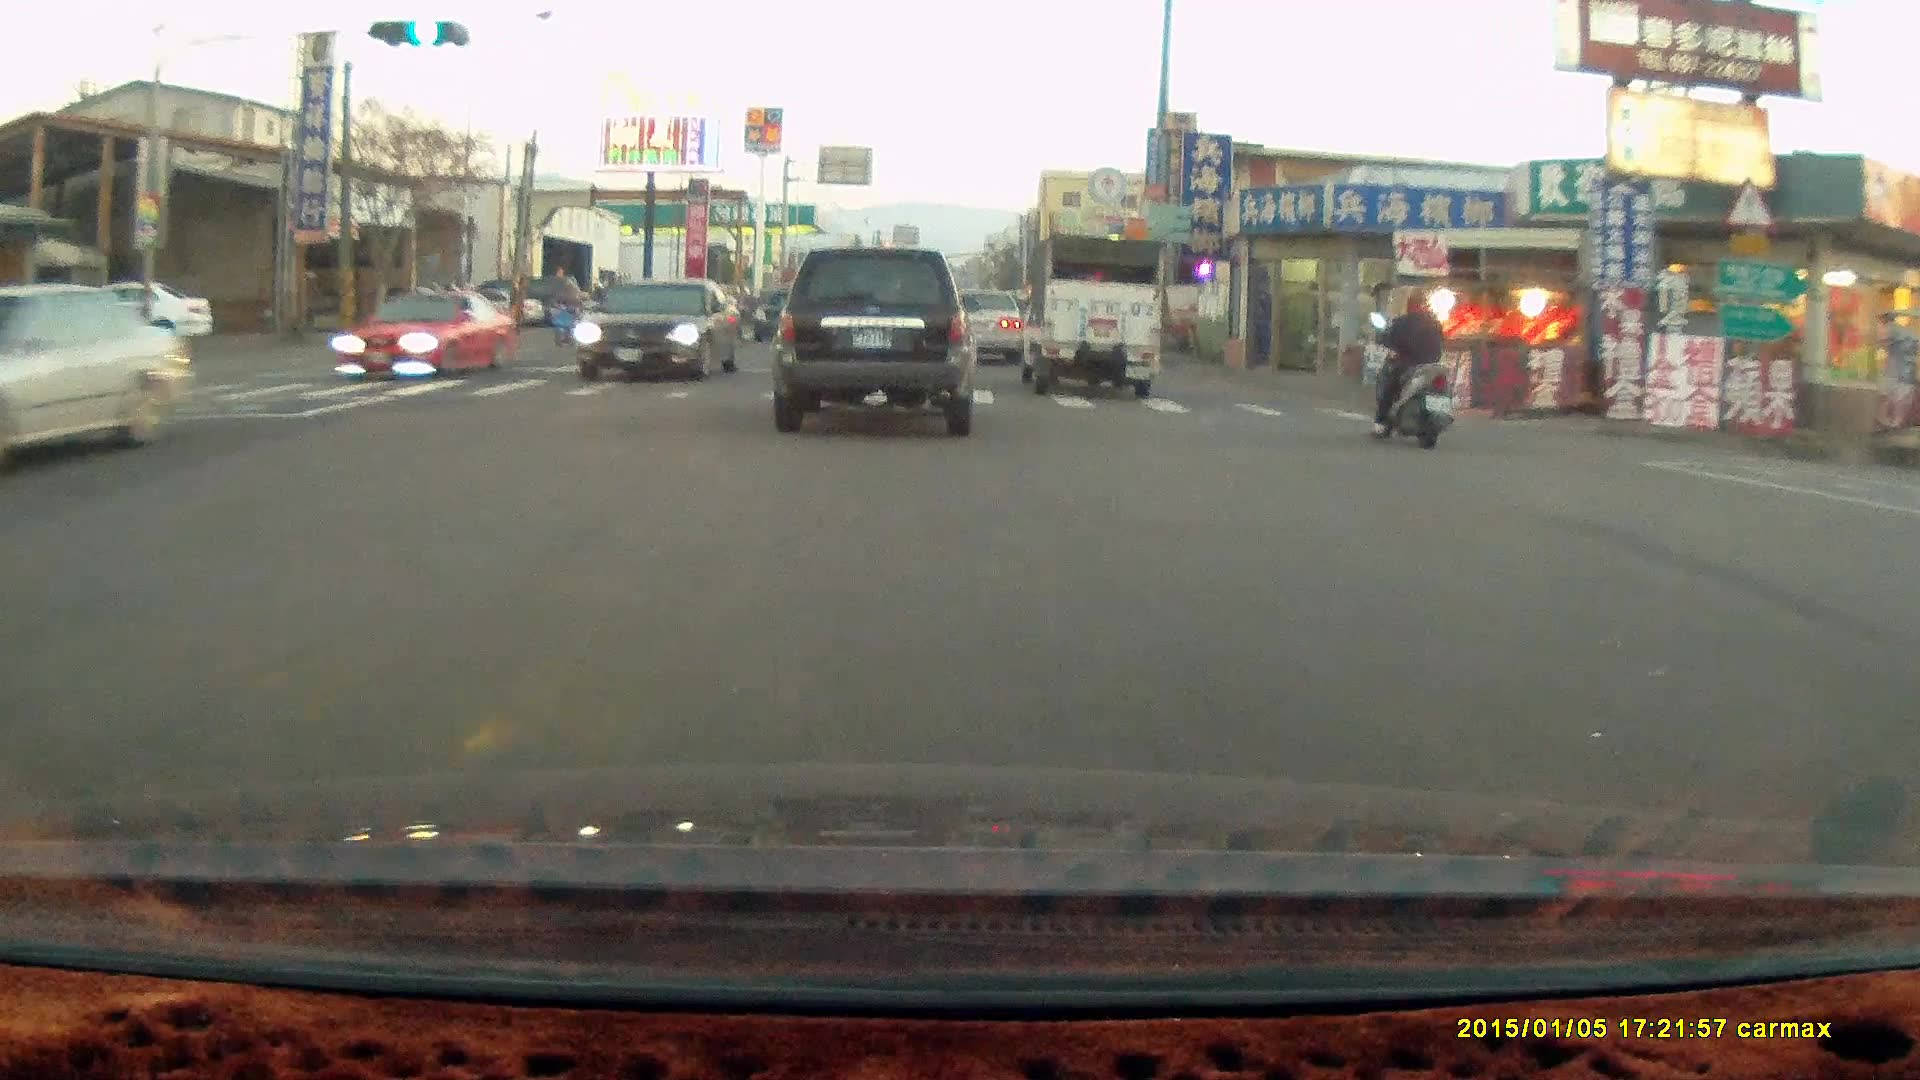rider: (1364, 279, 1453, 445), (544, 282, 582, 345)
vehicle: (768, 246, 981, 438), (1, 286, 194, 481), (1014, 228, 1166, 398), (575, 277, 743, 386), (337, 287, 514, 382), (27, 279, 215, 349), (941, 288, 1028, 369), (939, 287, 1023, 366)
